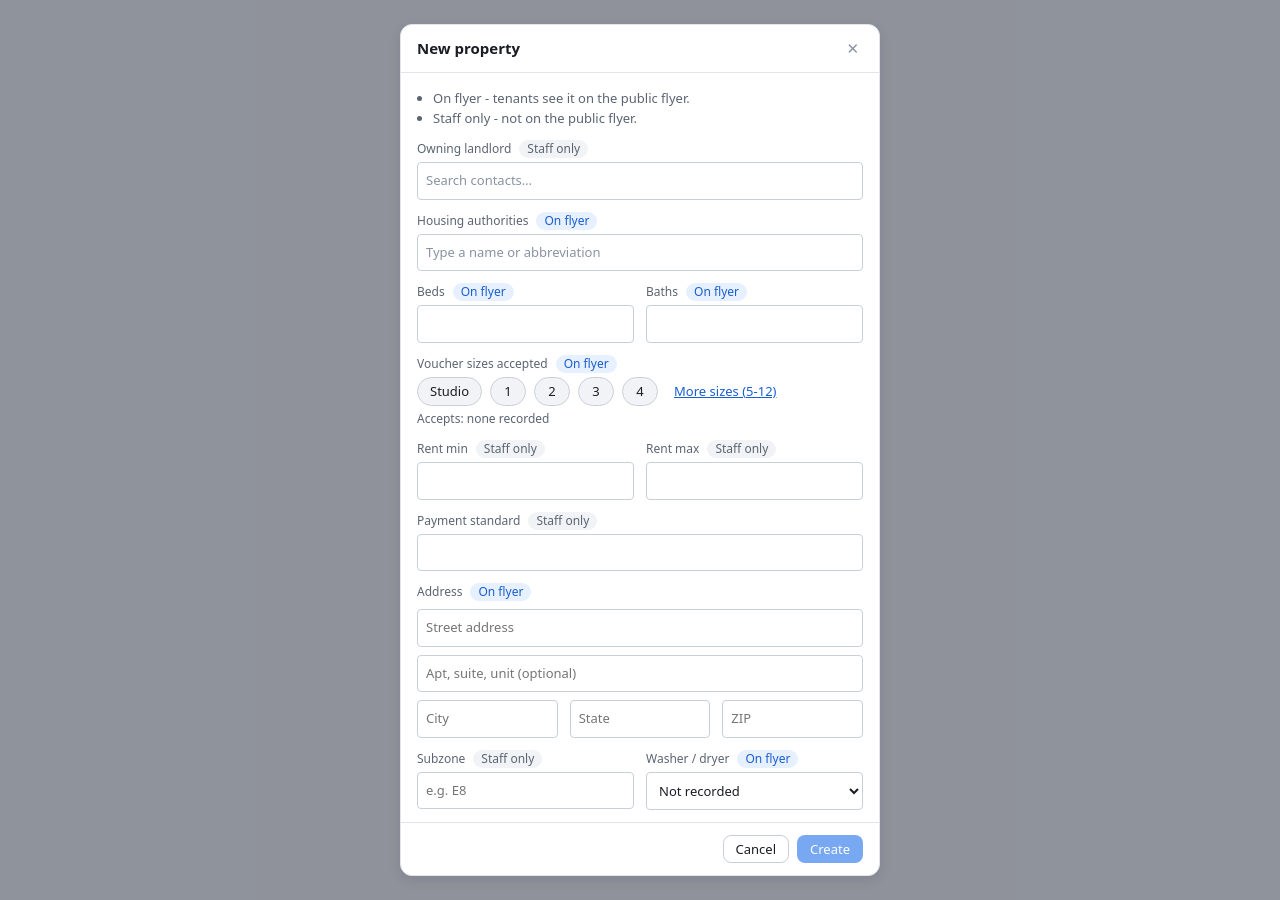
Test: UnitCreateForm › without landlordId: a landlord picker is shown and Create is disabled until one is chosen
Expected: the button "Create" is disabled, left=797, top=835, right=863, bottom=863
Type "Rosa" into the dropdown named "Owning landlord" at [640, 181], box left=417, top=162, right=863, bottom=200
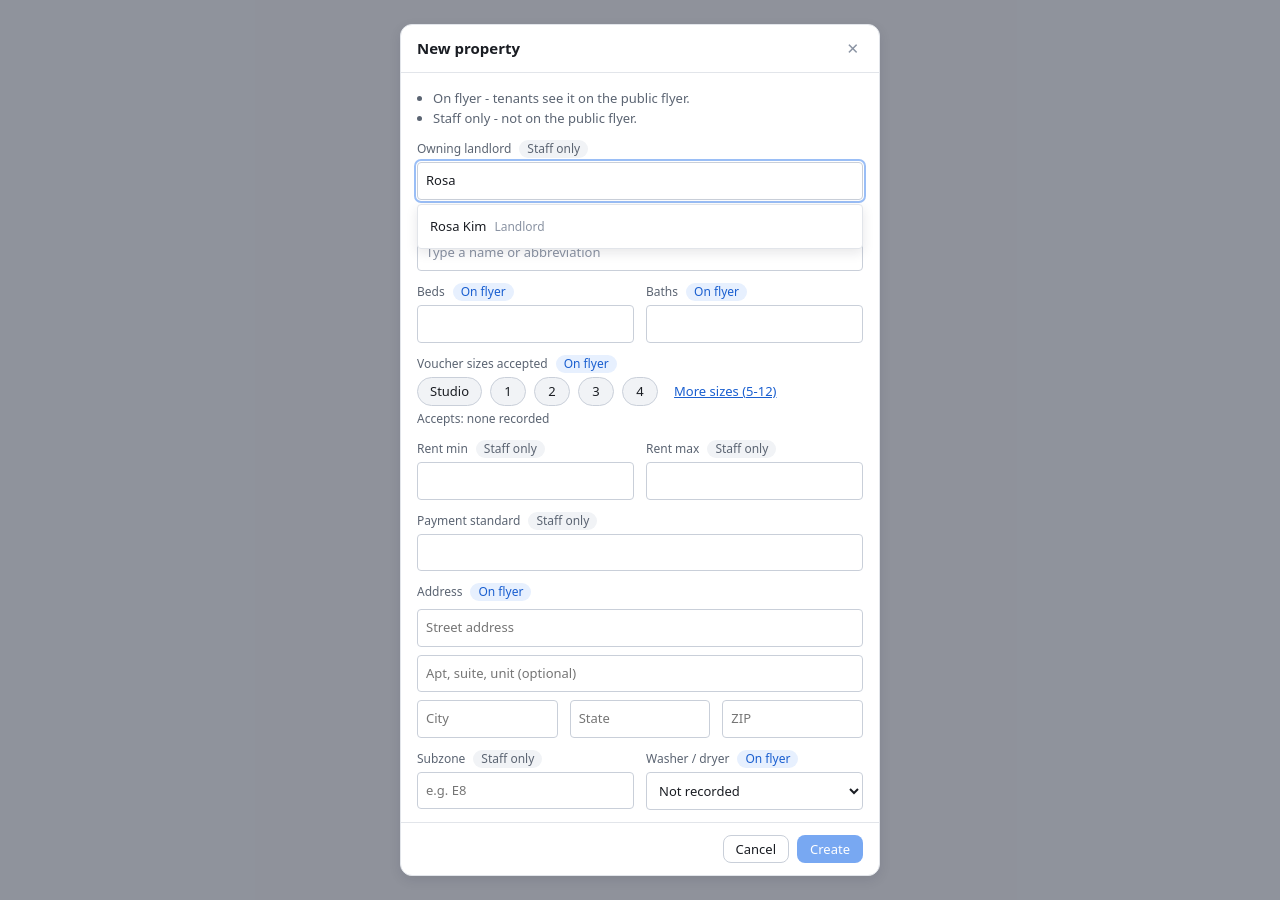
Click the option "Rosa Kim" at [487, 226], box left=430, top=216, right=545, bottom=234
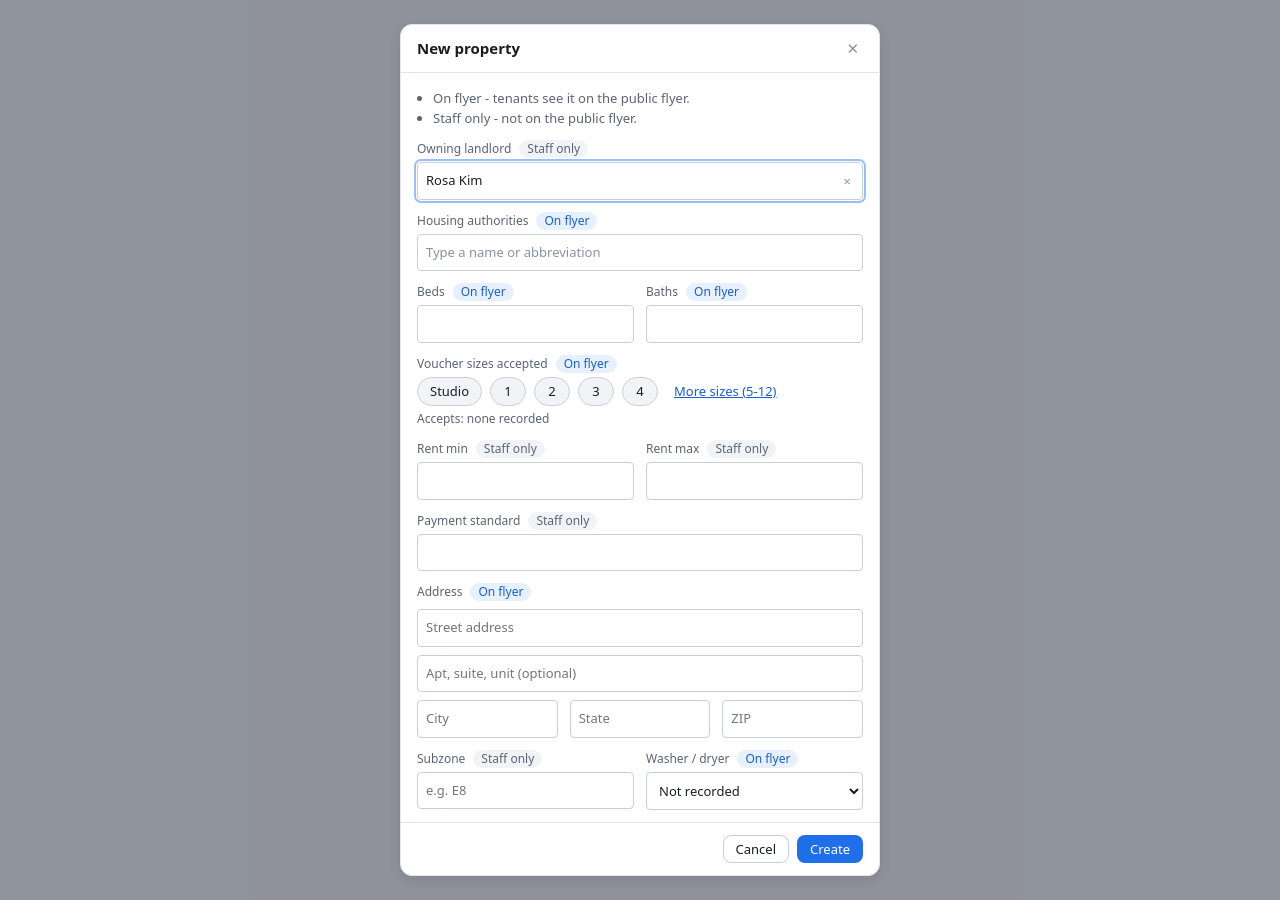
Result: the button "Create" is enabled at left=797, top=835, right=863, bottom=863
